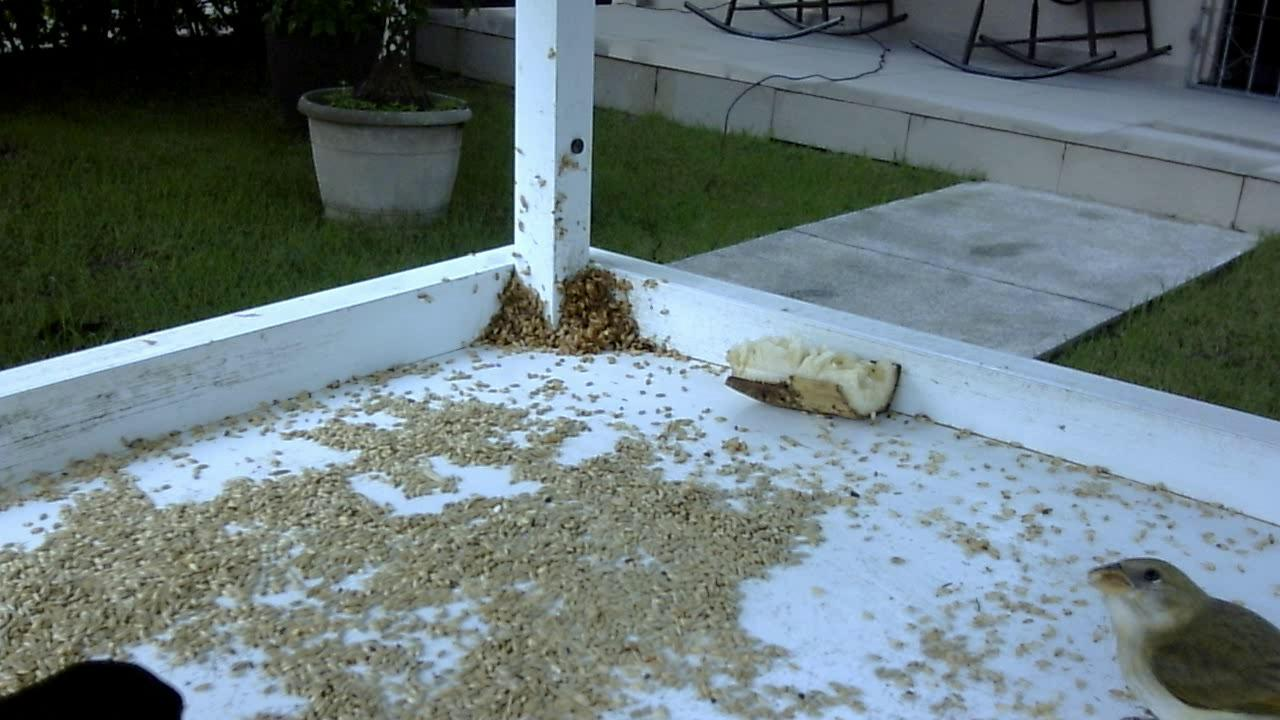canario_do_amazonas: (1079, 551, 1278, 720)
